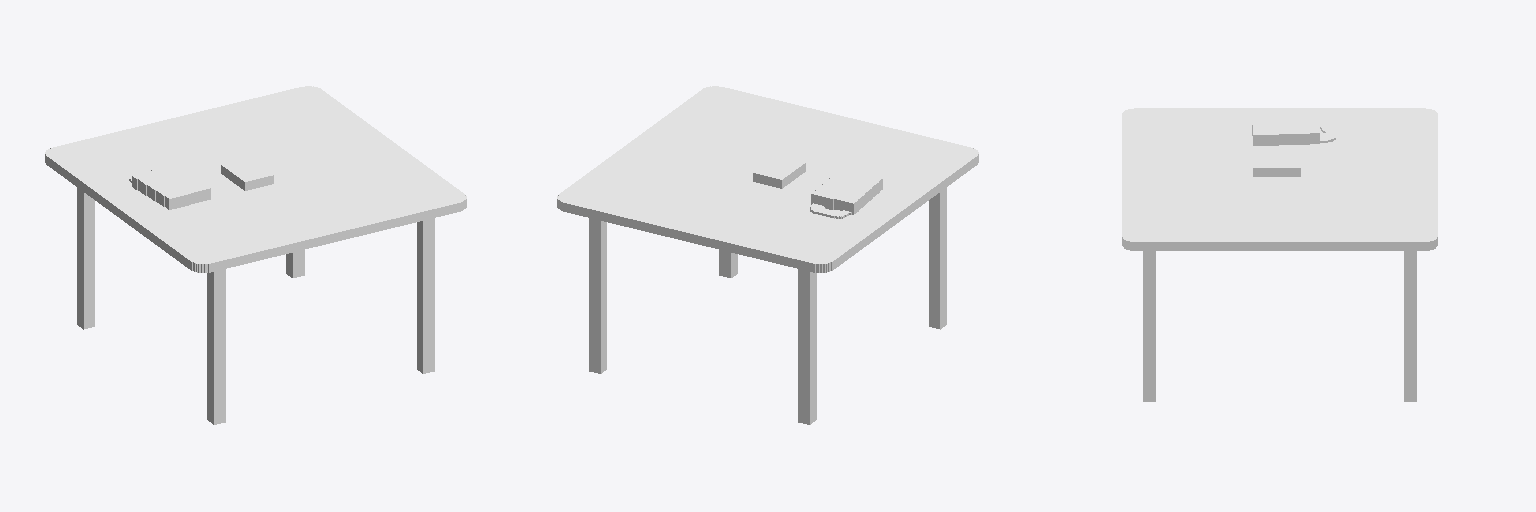
The model's file is MesaComUno.obj.
The picture shows the model from 3 angles: view 1: azimuth 30°, elevation 25°; view 2: azimuth 150°, elevation 25°; view 3: azimuth 270°, elevation 25°; orthographic projection.
Parts seen in each view (by area): view 1: object 1; view 2: object 1; view 3: object 1.
Part boxes in pixels (bbox=[...]): object 1: bbox=[45, 86, 466, 424]; object 1: bbox=[557, 86, 978, 424]; object 1: bbox=[1122, 108, 1437, 401].
Size of the model in its own units: 25.6 by 16.4 by 25.6.